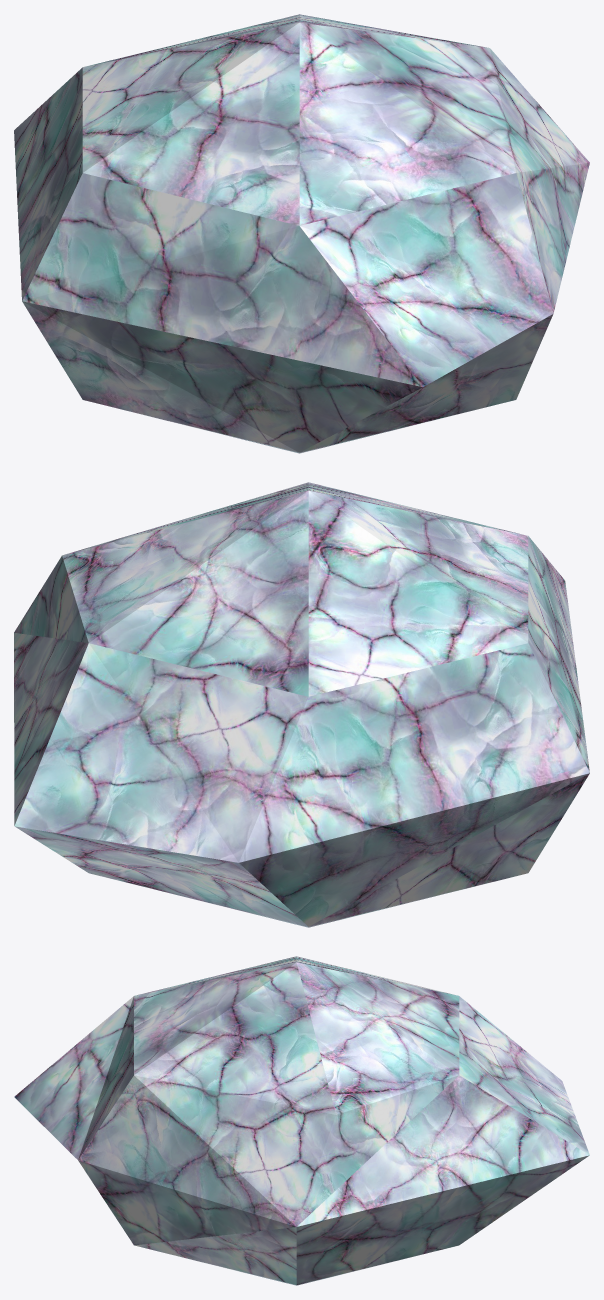
The model's file is Crystal01.dae.
3 renders of one model, top to bottom at view 1: azimuth 30°, elevation 25°; view 2: azimuth 150°, elevation 25°; view 3: azimuth 270°, elevation 25°, orthographic. The views are drawn at different scales.
Parts seen in each view (by area): view 1: SketchUp; view 2: SketchUp; view 3: SketchUp.
Part boxes in pixels (bbox=[...]): SketchUp: bbox=[14, 14, 589, 453]; SketchUp: bbox=[14, 482, 589, 927]; SketchUp: bbox=[14, 956, 589, 1285].
Bounding box in the file's own units: 103 × 121 × 74.8.
1 material, 1 textured.
